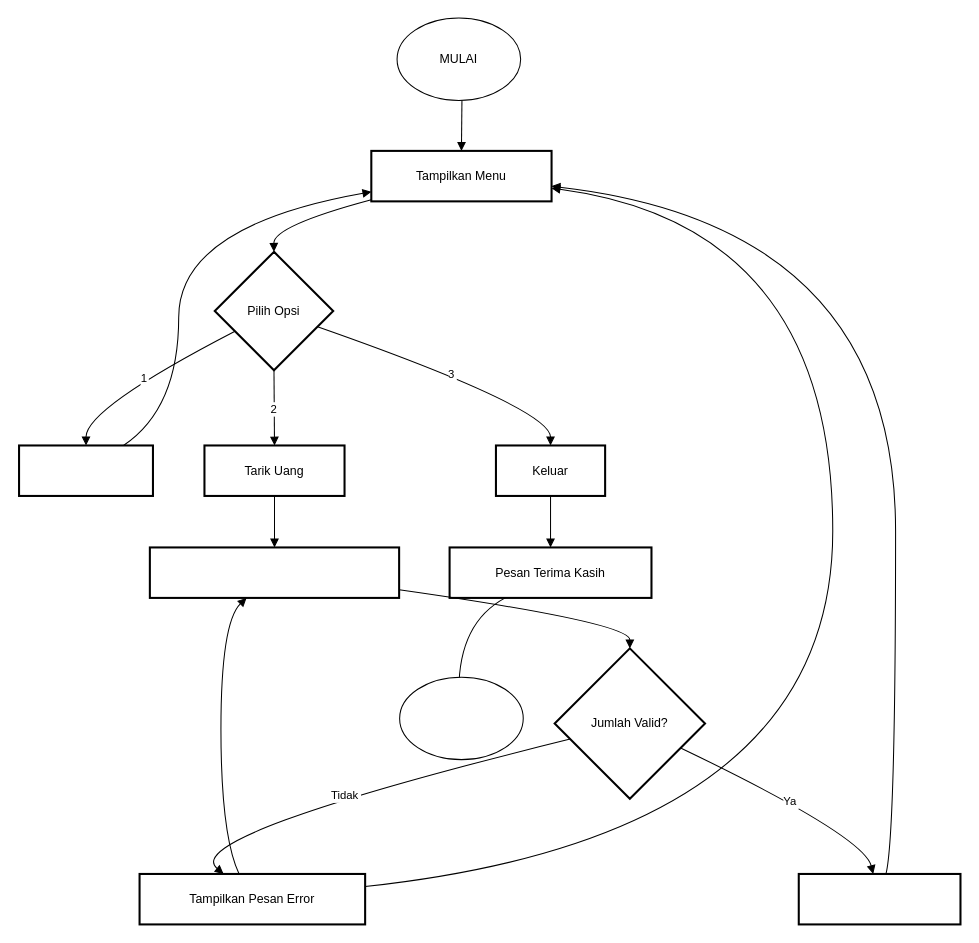
Image size: 979x943. Some labels were removed from this diagram. The centre of each missing label's shape, as x and y in pixels:
"Cek Saldo" belongs at point 85,470.
"Kurangi Saldo" belongs at point 879,898.
"Masukkan Jumlah Tarikan" belongs at point 274,572.
"SLESAI" belongs at point 461,718.
